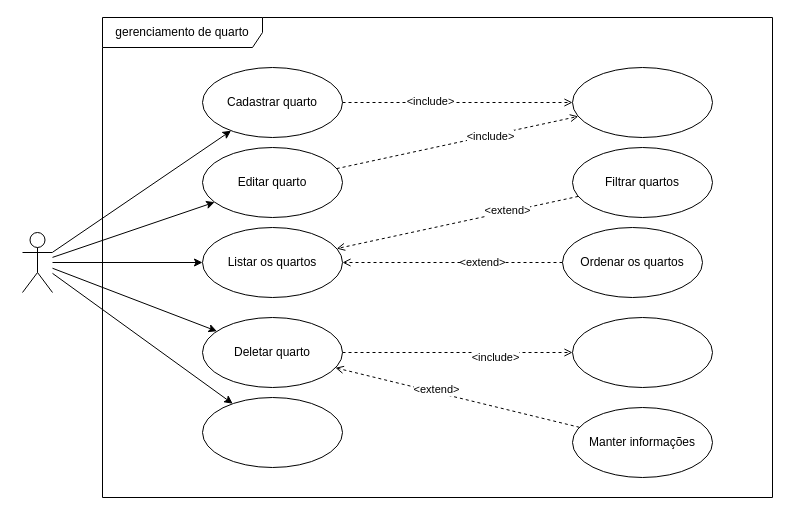
Image size: 790x515. Some labels were removed from this diagram. The centre of each missing label's shape, as x and y in pixels:
"Mostrar quarto" belongs at pixel 272 432.
"Solicitar motivo" belongs at pixel 642 352.
"Usuário" belongs at pixel 37 262.
"Validar informações" belongs at pixel 642 102.
